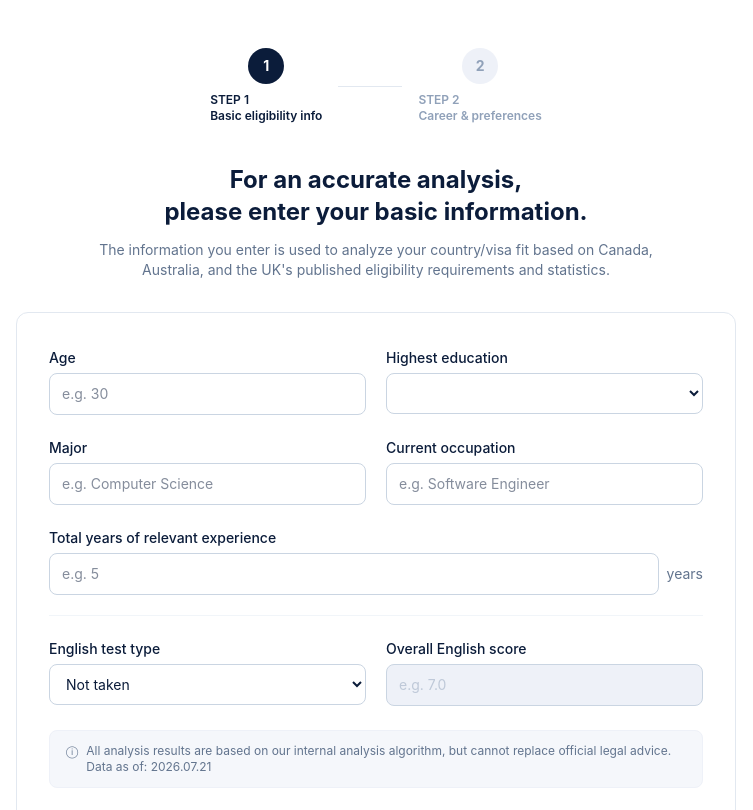
Test: AnalysisStep1View › does not navigate to step 2 when a language test is chosen but no score is entered
Type "30" into the number field labelled "Age". click: point(208, 394)
box: [49,373,366,415]
Select "Bachelor's degree" in the dropdown labelled "Highest education". click: point(544, 394)
box: [386,373,703,414]
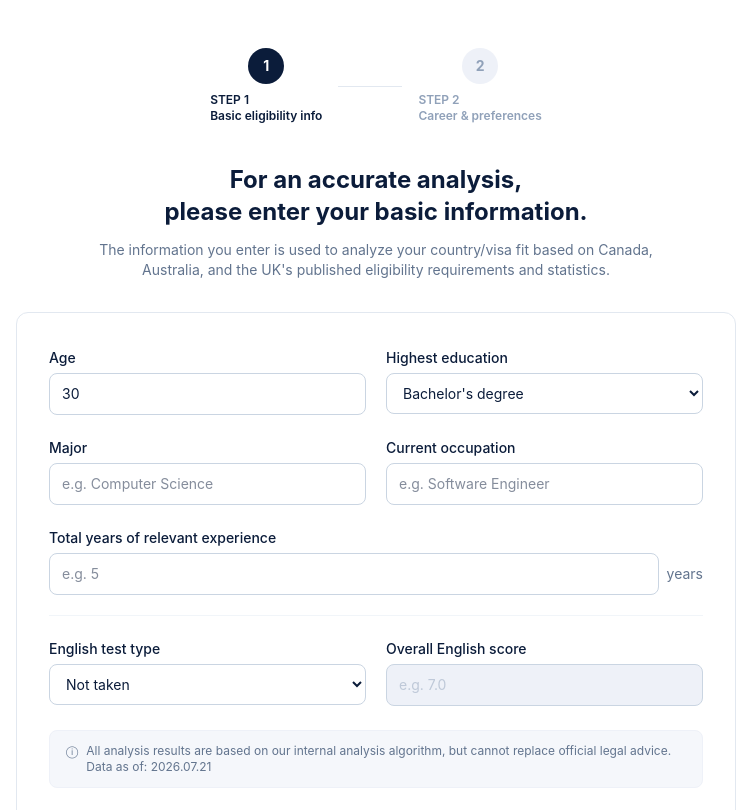
Type "경영학" into the field labelled "Major". click: point(208, 484)
box: [49,463,366,505]
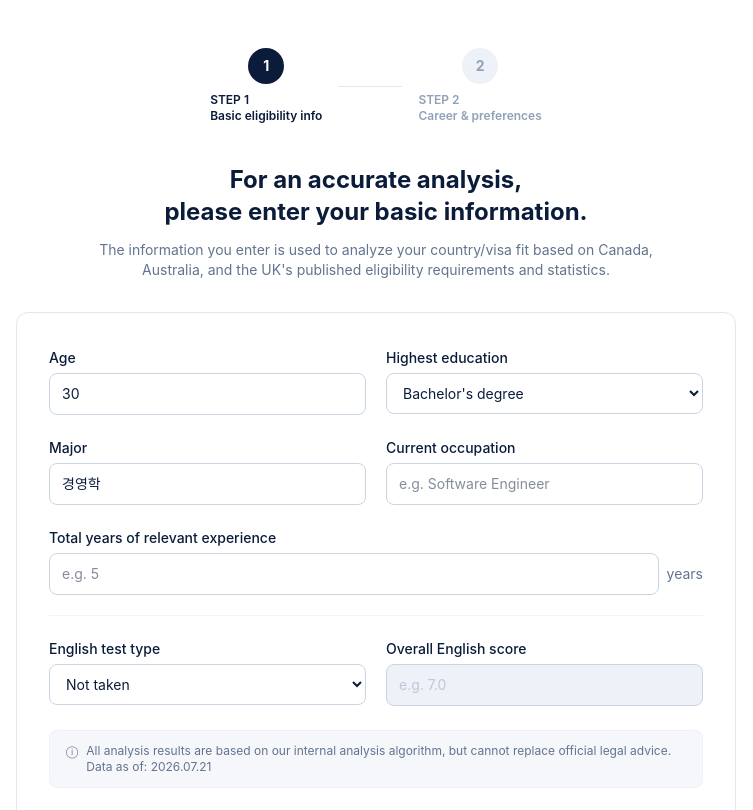
Type "데이터 분석가" into the field labelled "Current occupation". click: point(544, 484)
box: [386,463,703,505]
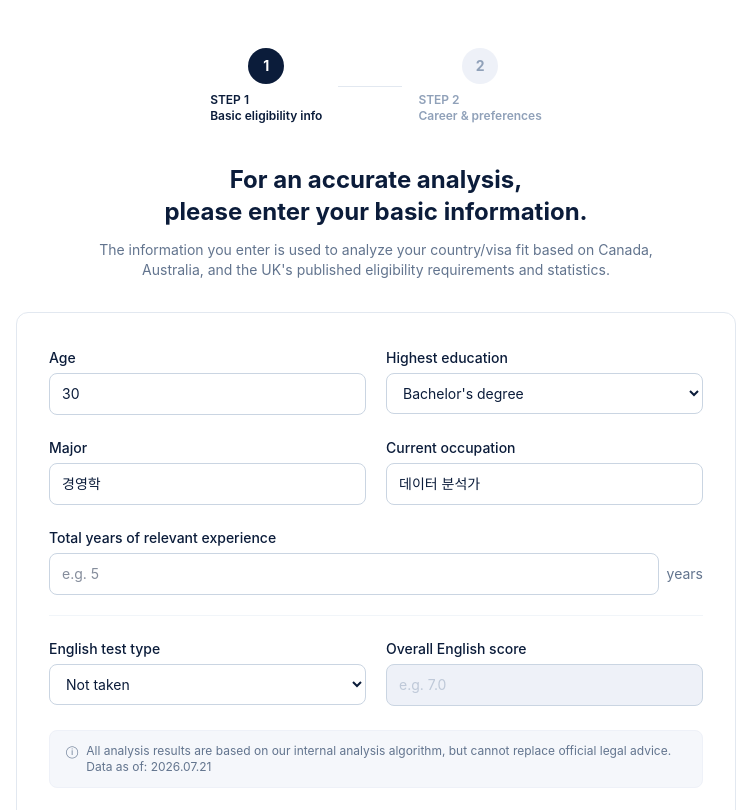
Type "6" into the number field labelled "Total years of relevant experience years". click: point(354, 574)
box: [49,553,659,595]
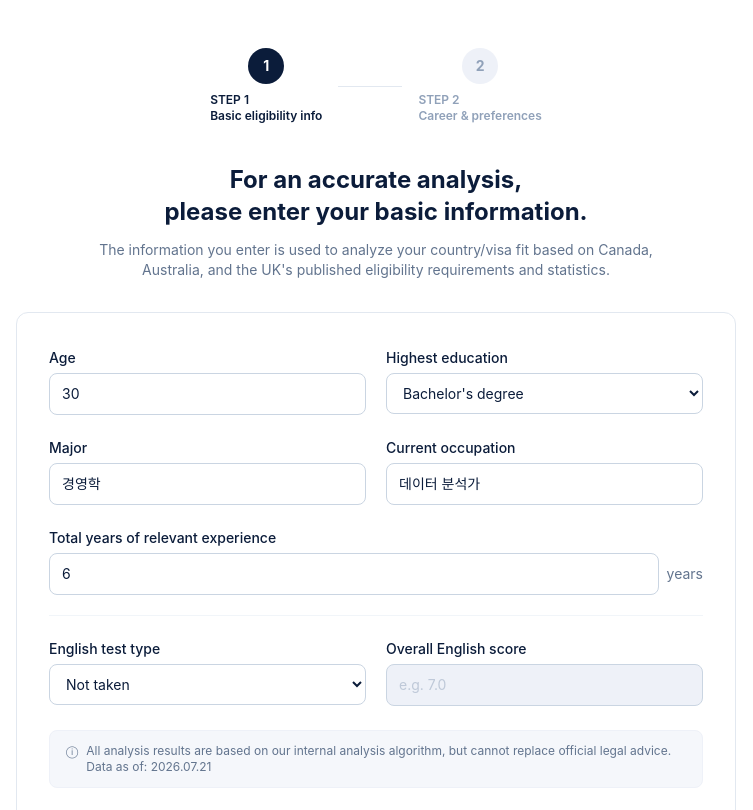
Select "IELTS Academic/General" in the dropdown labelled "English test type". click: point(208, 684)
box: [49,664,366,705]
(page scrolled)
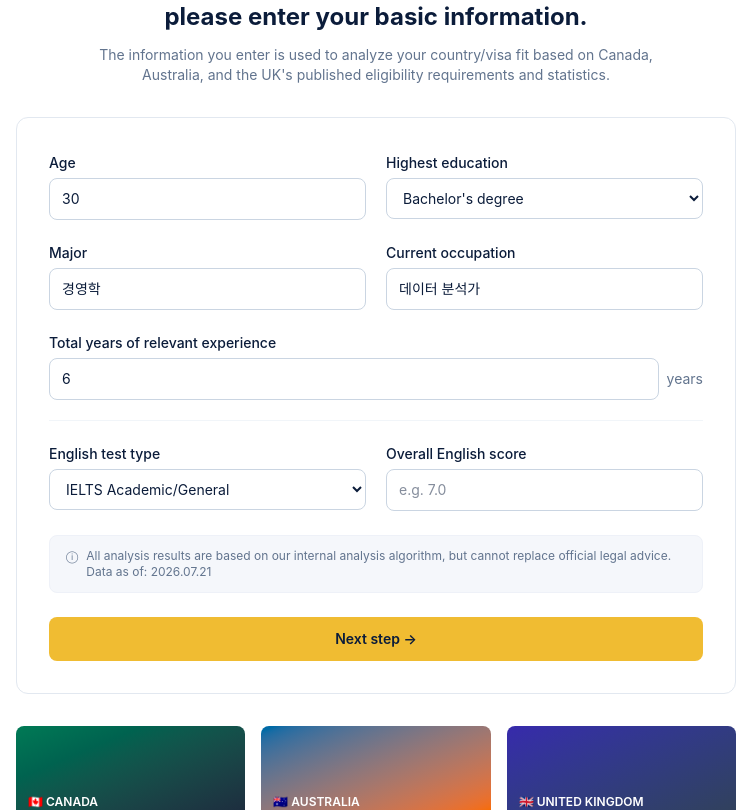
Submit the form
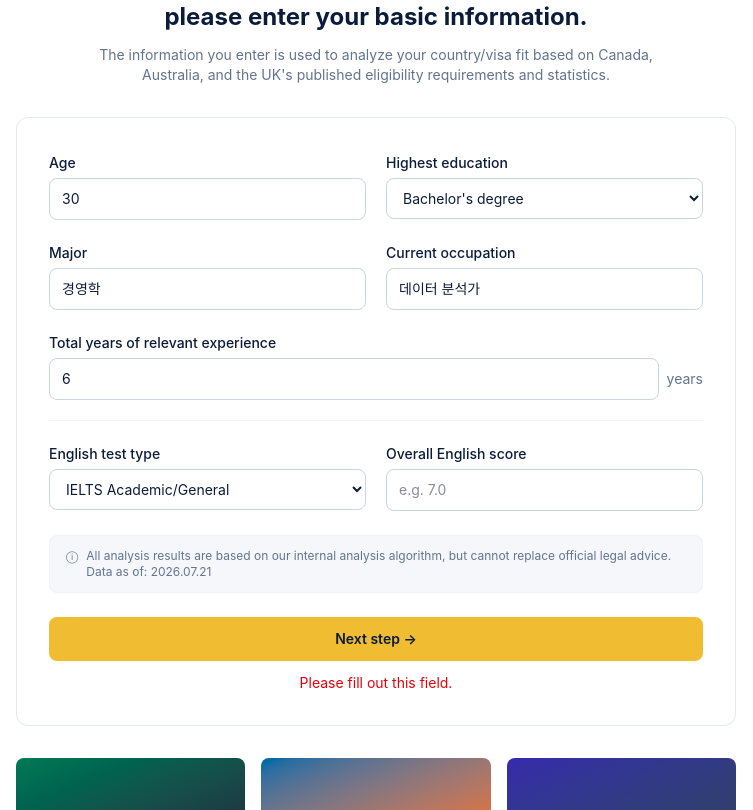
Expected: the text "Please fill out this field." is shown, [300,674,452,691]
